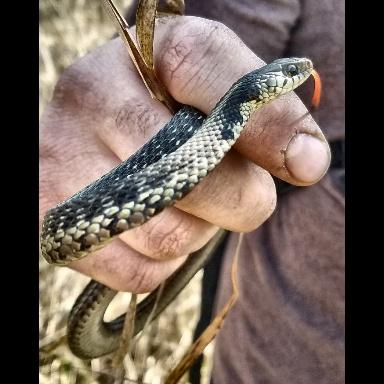snake: (40, 36, 333, 361)
